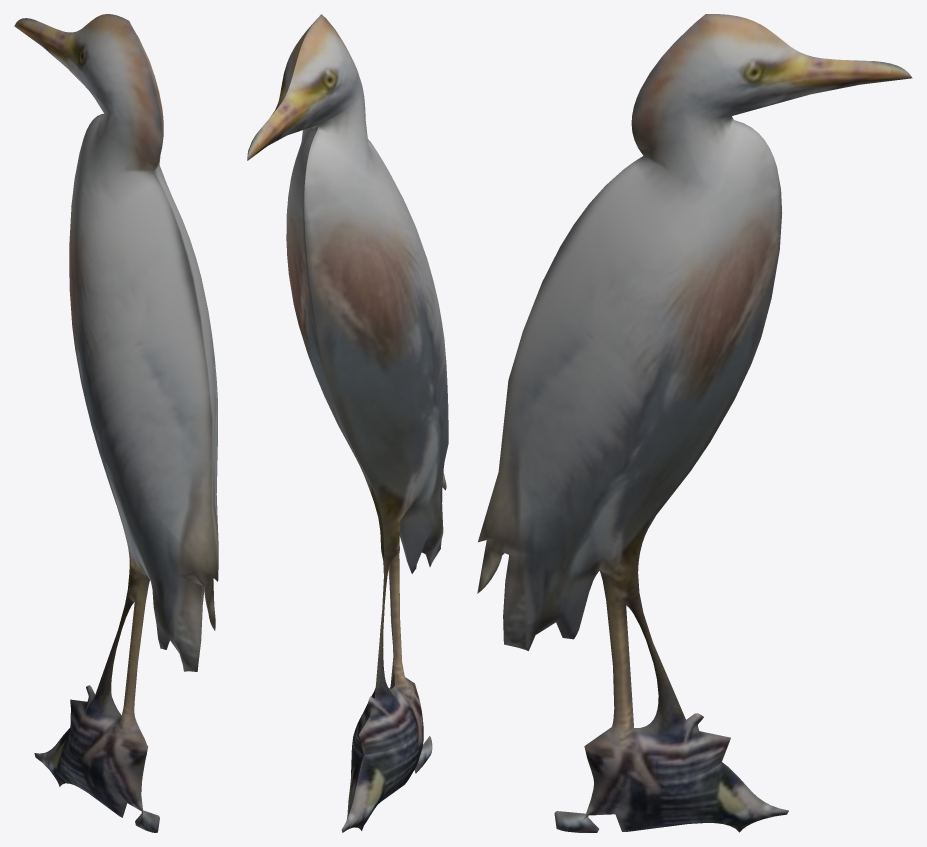
The model's file is DSC_4231-Garcita-Bueyera-Cattle-Egret--Custom--removebg-preview.gltf.
3 renders of one model, left to right at view 1: azimuth 30°, elevation 25°; view 2: azimuth 150°, elevation 25°; view 3: azimuth 270°, elevation 25°, orthographic. The views are drawn at different scales.
Visible parts, largest first — view 1: node1; view 2: node1; view 3: node1.
Part boxes in pixels (x1,y1,x2,y2): node1: (14, 14, 218, 832); node1: (247, 14, 448, 832); node1: (477, 14, 912, 832).
Bounding box in the file's own units: 0.4191 × 2.59 × 1.2.
1 material, 1 textured.
